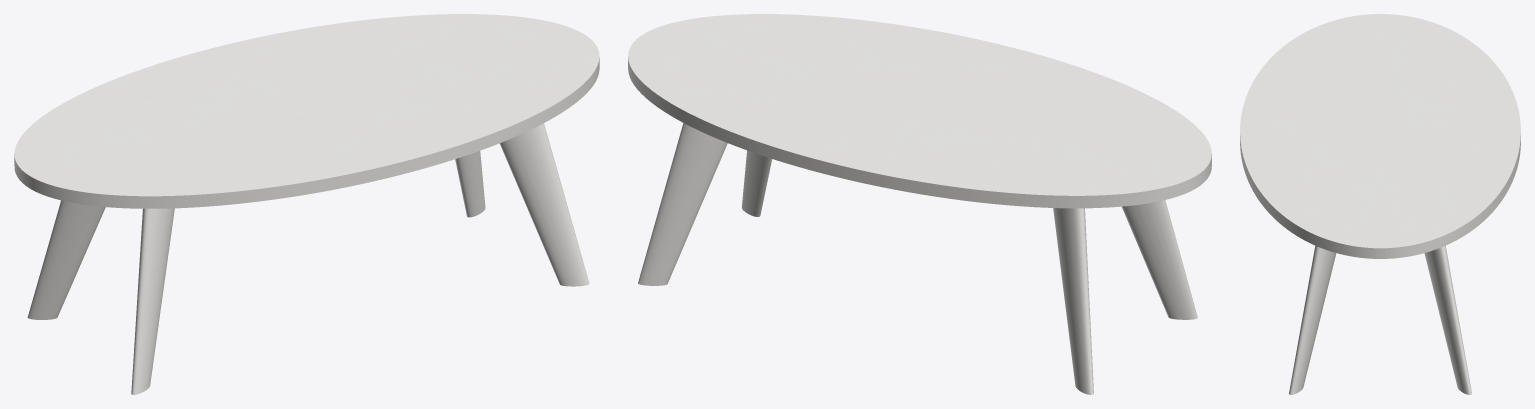
File: purewhite_ellips_standard_ferdinantwalnut.glb
3 renders of one model, left to right at view 1: azimuth 30°, elevation 25°; view 2: azimuth 150°, elevation 25°; view 3: azimuth 270°, elevation 25°, orthographic. The views are drawn at different scales.
Parts seen in each view (by area): view 1: standard_ellips, ferdinandwalnut; view 2: standard_ellips, ferdinandwalnut; view 3: standard_ellips, ferdinandwalnut.
Boxes of the visible parts, left/top/right/bottom form: standard_ellips: left=14, top=14, right=599, bottom=208; ferdinandwalnut: left=27, top=123, right=589, bottom=394; standard_ellips: left=628, top=14, right=1211, bottom=208; ferdinandwalnut: left=638, top=123, right=1197, bottom=394; standard_ellips: left=1240, top=14, right=1520, bottom=258; ferdinandwalnut: left=1289, top=246, right=1471, bottom=394.
Bounding box in the file's own units: 7.5 × 2.51 × 3.8.
Materials: 1 (1 with a texture image).
